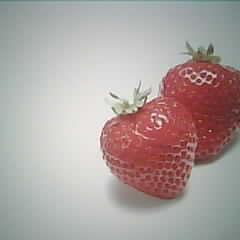straw-ripe: (100, 98, 199, 198), (160, 60, 240, 161)
